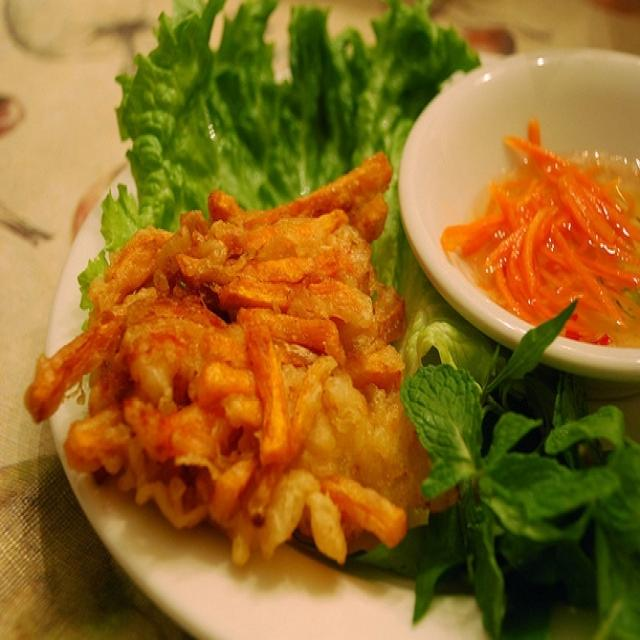炸货点心: (9, 5, 634, 629)
熟制海鲜: (9, 5, 634, 629)
